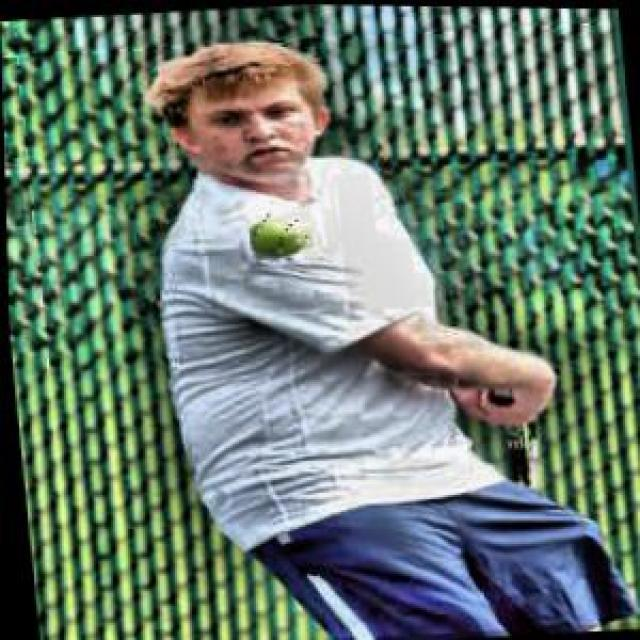tennis-ball: (248, 211, 314, 265)
